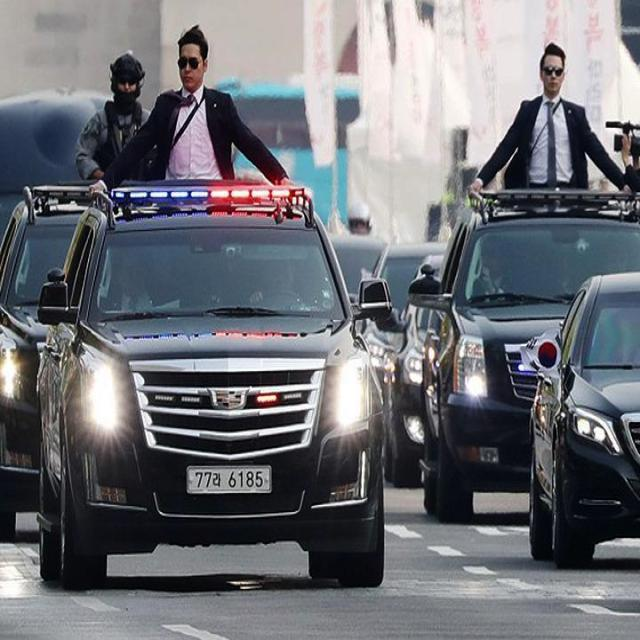car: (36, 181, 410, 598)
illegal_plate: (183, 466, 274, 502)
